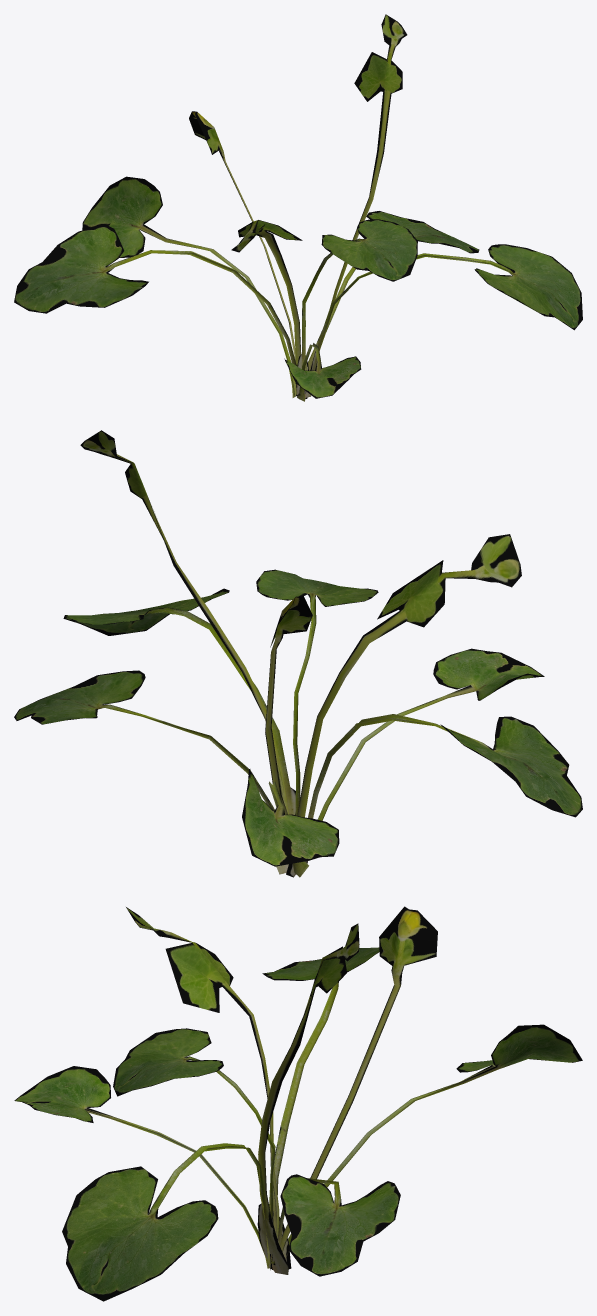
Rendered from Planta_1.glb.
3 renders of one model, top to bottom at view 1: azimuth 30°, elevation 25°; view 2: azimuth 150°, elevation 25°; view 3: azimuth 270°, elevation 25°, orthographic. The views are drawn at different scales.
Visible parts, largest first — view 1: Planta 1; view 2: Planta 1; view 3: Planta 1.
Boxes of the visible parts, left/top/right/bottom form: Planta 1: left=14, top=14, right=582, bottom=401; Planta 1: left=14, top=430, right=582, bottom=877; Planta 1: left=14, top=906, right=582, bottom=1301.
Size of the model in its own units: 0.4963 by 0.3345 by 0.4108.
1 material, 1 textured.
